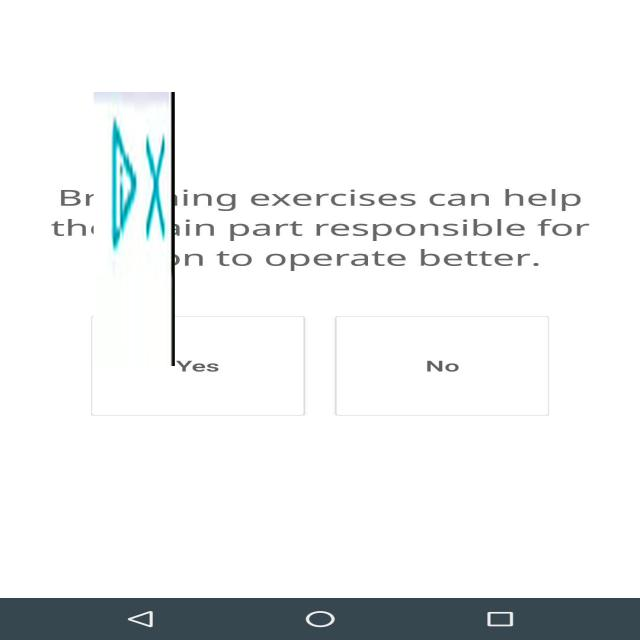sneaking: (94, 92, 174, 366)
